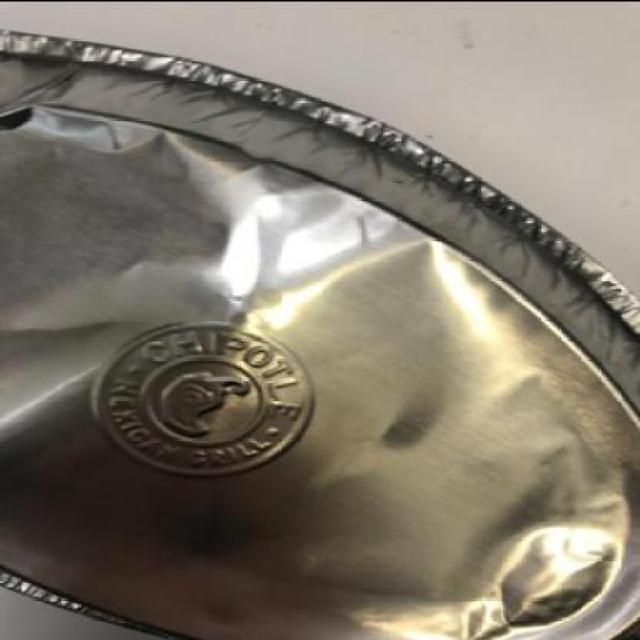METAL: (1, 26, 640, 638)
